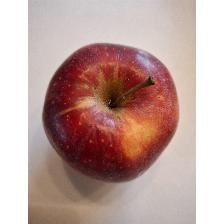Apfel: (42, 38, 184, 184)
